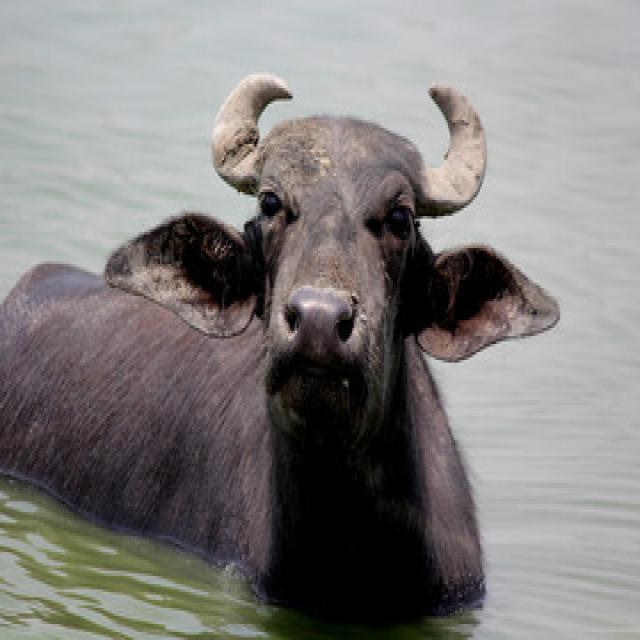Buffalo: (0, 67, 562, 627)
